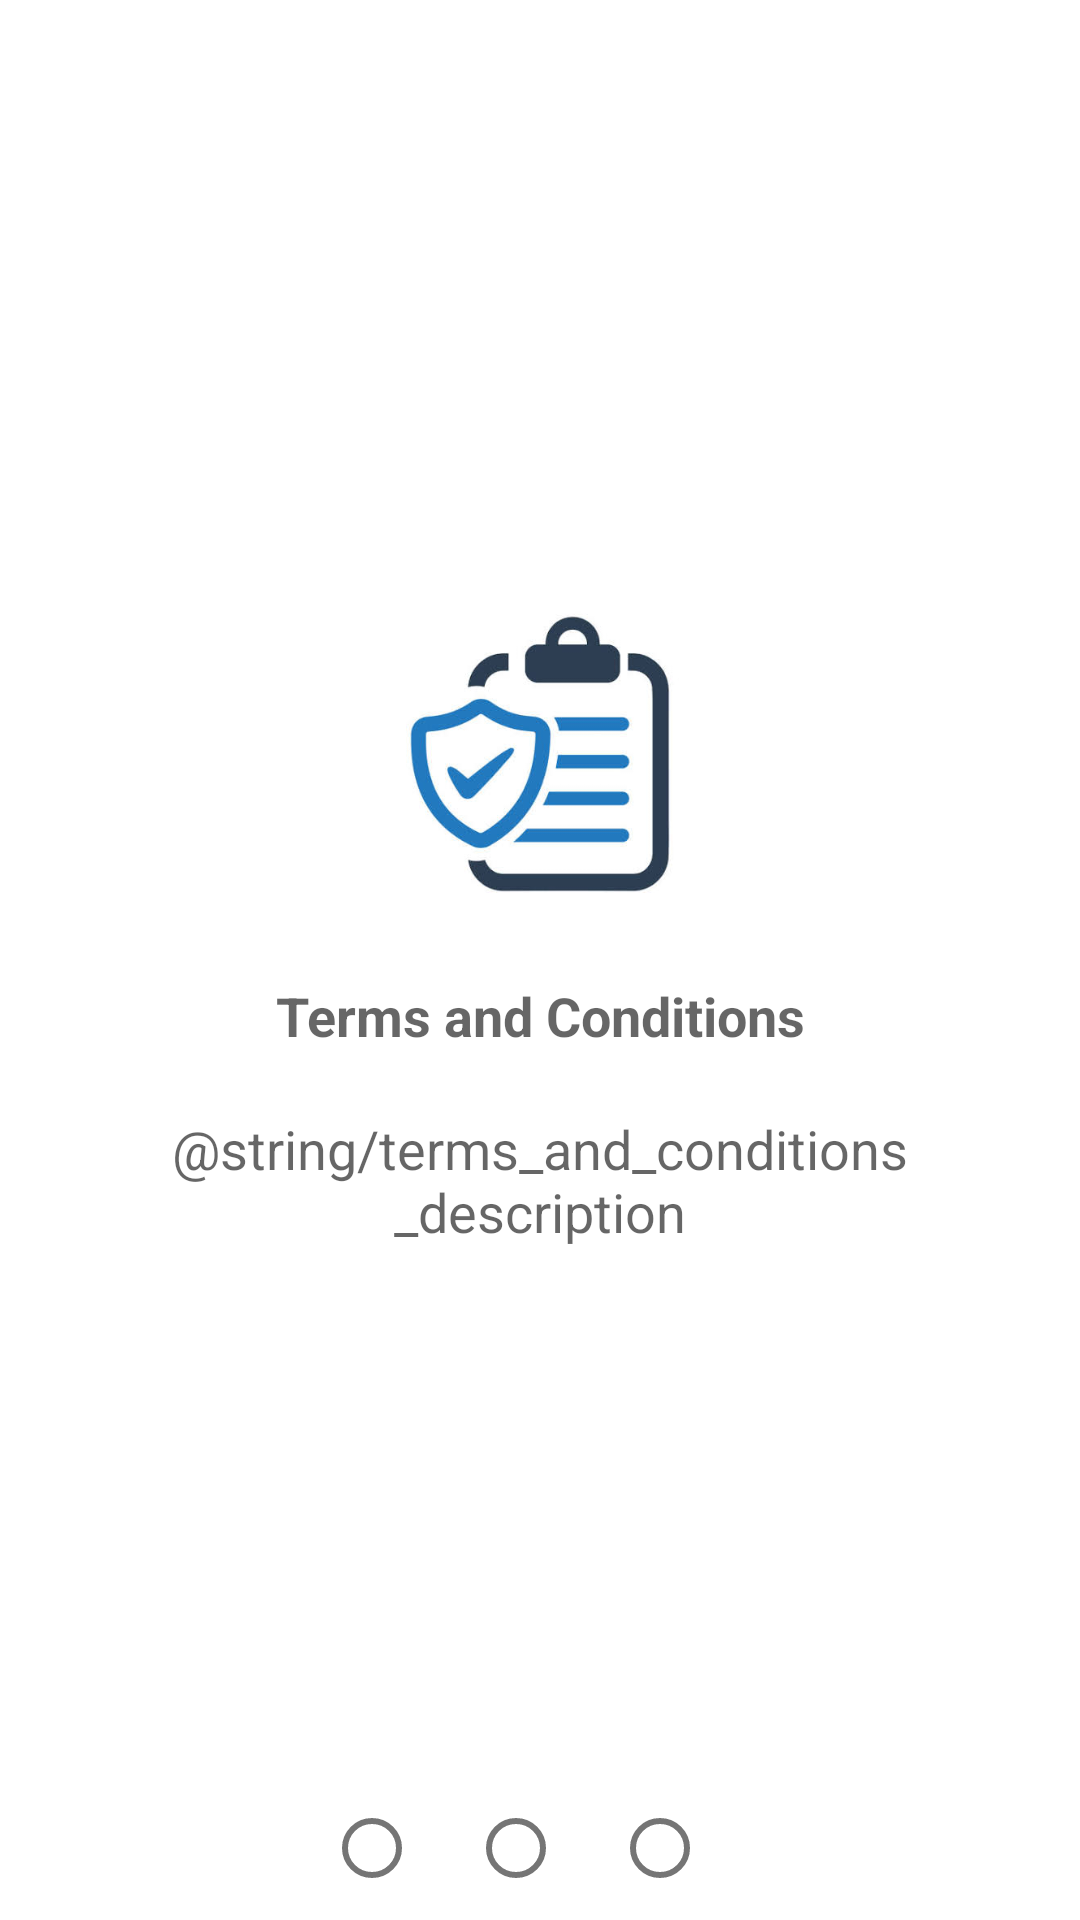

Locate icon controls on the screen. Image size 1080*1920, boxes as box(x1, y1, x2, y2).
termsimgv: box(410, 616, 670, 892)
